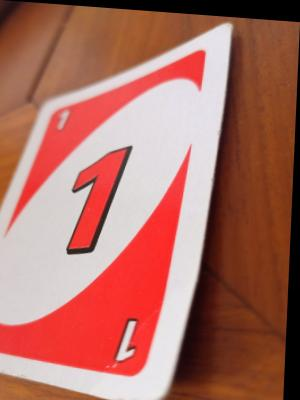num_1: (61, 135, 133, 260), (114, 295, 155, 368), (47, 101, 88, 139)
